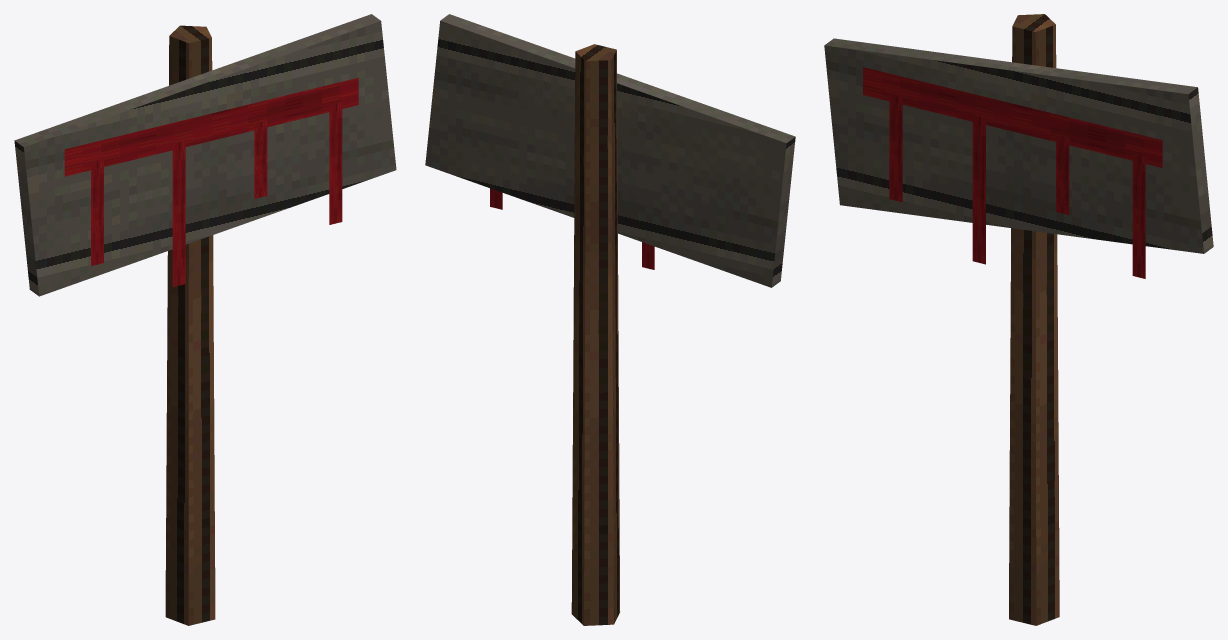
Rendered from cartel.obj.
3 renders of one model, left to right at view 1: azimuth 30°, elevation 25°; view 2: azimuth 150°, elevation 25°; view 3: azimuth 330°, elevation 25°, orthographic. The views are drawn at different scales.
Parts seen in each view (by area): view 1: cartel; view 2: cartel; view 3: cartel.
Boxes of the visible parts, <box> form: cartel: <box>14,14,396,625</box>; cartel: <box>425,14,795,625</box>; cartel: <box>824,14,1213,625</box>.
Bounding box in the file's own units: 1.14 × 1.7 × 0.178.
Materials: 3 (3 with a texture image).
